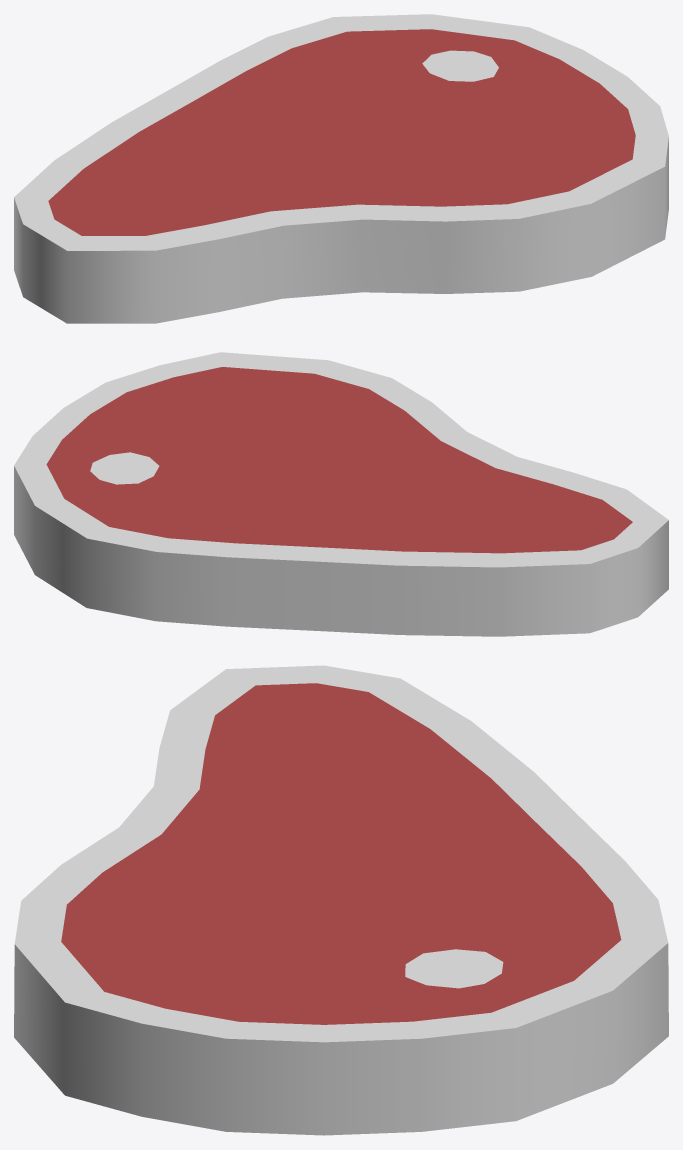
Rendered from meat.glb.
3 renders of one model, top to bottom at view 1: azimuth 30°, elevation 25°; view 2: azimuth 150°, elevation 25°; view 3: azimuth 270°, elevation 25°, orthographic. The views are drawn at different scales.
Parts seen in each view (by area): view 1: meat; view 2: meat; view 3: meat.
Part boxes in pixels (x1,y1,x2,y2): meat: (14, 14, 668, 323); meat: (14, 352, 668, 636); meat: (14, 665, 668, 1135).
Bounding box in the file's own units: 0.4883 × 0.058 × 0.3586.
